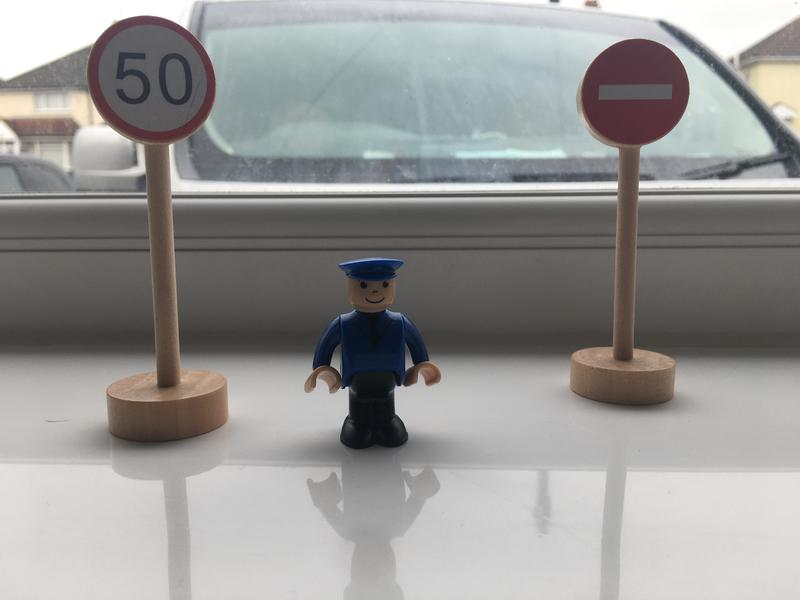Traffic_Sign_50: (89, 15, 214, 142)
Traffic_Sign_No_Entry: (581, 40, 690, 146)
person: (302, 258, 441, 451)
